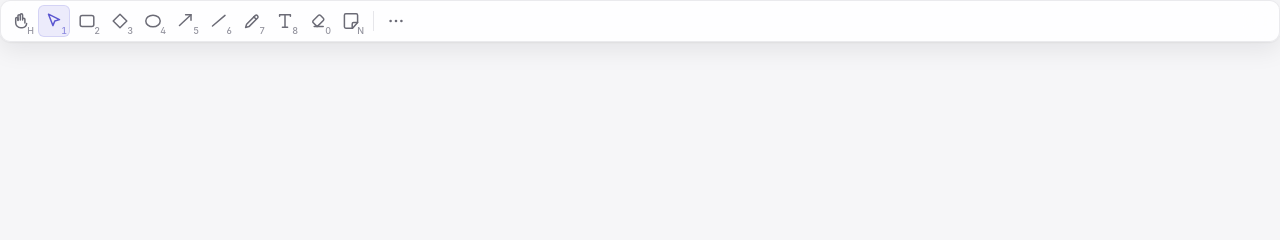
Toolbar › opens overflow menu and selects a tool
This screenshot has width=1280, height=240.
# Click more tools
Click the button named "More tools" at [396, 21], box [380,5,412,37]
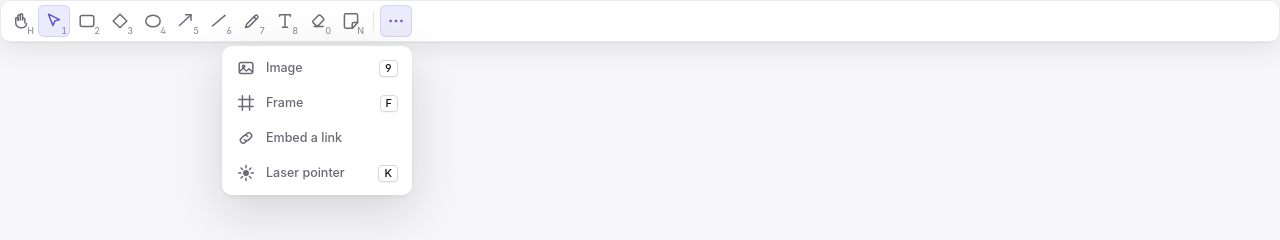
Result: the menu is shown at [222,46,412,195]
Result: the text "Frame" is shown
# Select a tool from overflow
Click the text "Frame" at [285, 102], box [266,95,303,110]
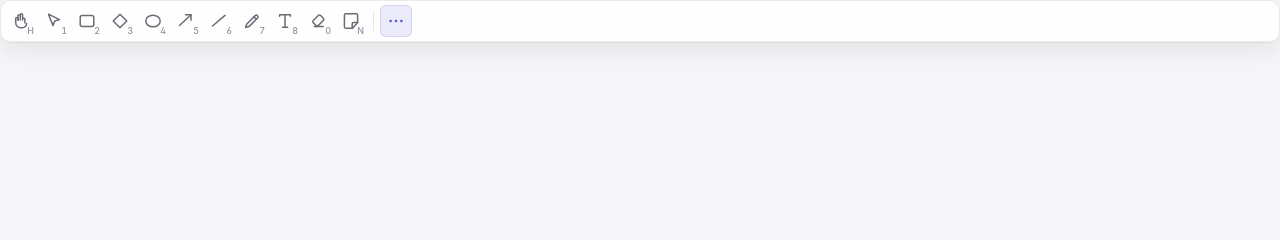
Result: the menu is gone
